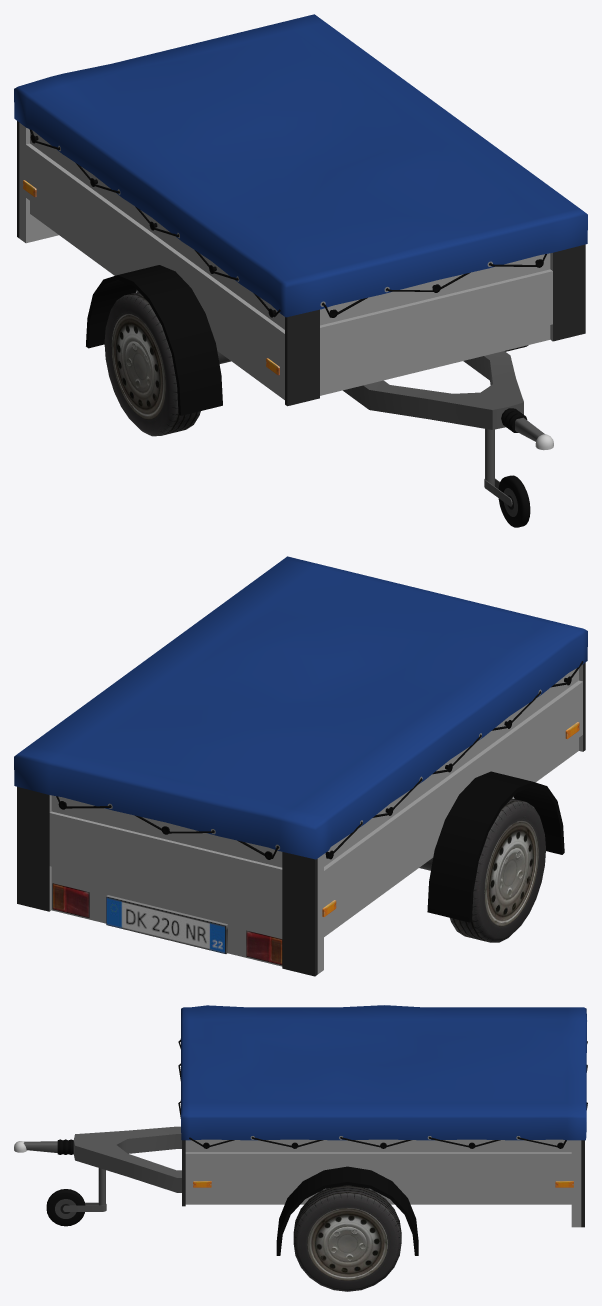
File: remorque.obj
The picture shows the model from 3 angles, top to bottom: view 1: azimuth 30°, elevation 25°; view 2: azimuth 150°, elevation 25°; view 3: azimuth 270°, elevation 25°; orthographic projection. The views are drawn at different scales.
Parts seen in each view (by area): view 1: Cover_Cube.003, Remorque_Cube, Mudguard_Cylinder.004, wheels_Cylinder.002, Fender_Cube.002, LittleWheel_Cylinder.005, Ropes_Plane, Fender.001_Cube.001; view 2: Cover_Cube.003, Remorque_Cube, Mudguard_Cylinder.004, wheels_Cylinder.002, LicensePlates_mesh.010, Lights_Texture, Ropes_Plane; view 3: Cover_Cube.003, Remorque_Cube, wheels_Cylinder.002, Fender_Cube.002, Mudguard_Cylinder.004, LittleWheel_Cylinder.005, Ropes_Plane, Fender.001_Cube.001, Bridge_Cube.005.
Part boxes in pixels (x1=…): Cover_Cube.003: x1=14, y1=14, x2=587, y2=317; Remorque_Cube: x1=17, y1=121, x2=585, y2=406; Mudguard_Cylinder.004: x1=86, y1=265, x2=222, y2=415; wheels_Cylinder.002: x1=104, y1=292, x2=528, y2=436; Fender_Cube.002: x1=343, y1=351, x2=523, y2=429; LittleWheel_Cylinder.005: x1=498, y1=475, x2=530, y2=527; Ropes_Plane: x1=29, y1=129, x2=546, y2=317; Fender.001_Cube.001: x1=484, y1=429, x2=512, y2=506; Cover_Cube.003: x1=14, y1=556, x2=587, y2=859; Remorque_Cube: x1=17, y1=662, x2=585, y2=976; Mudguard_Cylinder.004: x1=427, y1=771, x2=564, y2=922; wheels_Cylinder.002: x1=450, y1=798, x2=545, y2=942; LicensePlates_mesh.010: x1=106, y1=895, x2=227, y2=953; Lights_Texture: x1=52, y1=722, x2=579, y2=965; Ropes_Plane: x1=56, y1=661, x2=583, y2=858; Cover_Cube.003: x1=181, y1=1005, x2=586, y2=1140; Remorque_Cube: x1=182, y1=1139, x2=584, y2=1227; wheels_Cylinder.002: x1=293, y1=1185, x2=401, y2=1291; Fender_Cube.002: x1=73, y1=1126, x2=181, y2=1192; Mudguard_Cylinder.004: x1=276, y1=1166, x2=418, y2=1255; LittleWheel_Cylinder.005: x1=46, y1=1189, x2=85, y2=1226; Ropes_Plane: x1=178, y1=1039, x2=587, y2=1147; Fender.001_Cube.001: x1=63, y1=1168, x2=106, y2=1211; Bridge_Cube.005: x1=14, y1=1141, x2=57, y2=1152.
Size of the model in its own units: 180 by 102 by 313.
